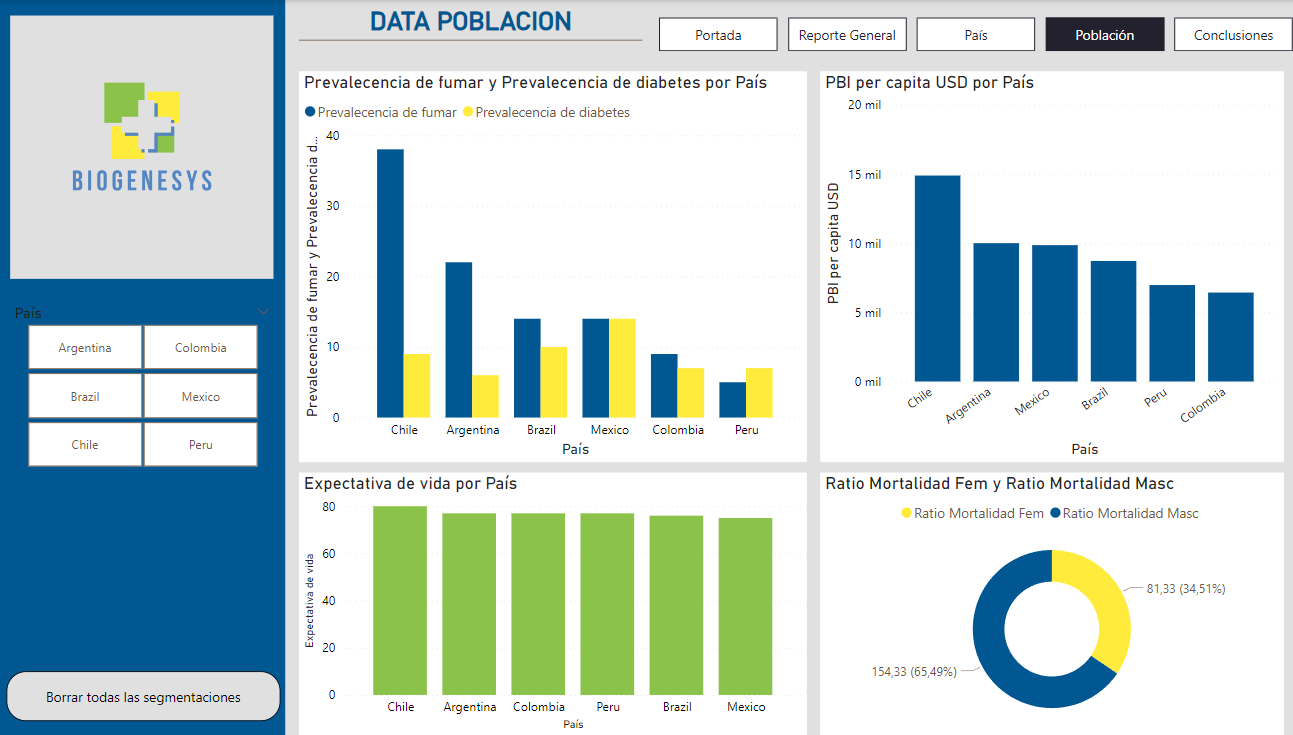

The page's visual inventory and layout, read from the dashboard file:
{"tool":"powerbi","page":{"name":"Población","canvas":[1280,720],"ordinal":3},"visuals":[{"type":"textbox","box":[9.8,0,280,720.2],"z":0},{"type":"image","box":[15.5,0,267.6,287.3],"z":1000},{"type":"textbox","title":"DATA POBLACION","box":[303.3,6.1,336.3,63.6],"z":2000},{"type":"pageNavigator","box":[655.1,17.1,624.9,33],"z":3000},{"type":"actionButton","box":[17.1,656.7,267.8,48.9],"z":4000},{"type":"clusteredColumnChart","fields":{"Y":["Avg(Datos_Finales_Filtrados (2).smoking_prevalence)","Avg(Datos_Finales_Filtrados (2).diabetes_prevalence)"],"Category":["Datos_Finales_Filtrados (2).country_name"]},"box":[303.6,69.7,496.9,382.5],"z":5000},{"type":"clusteredColumnChart","fields":{"Y":["Avg(Datos_Finales_Filtrados (2).life_expectancy)"],"Category":["Datos_Finales_Filtrados (2).country_name"]},"box":[303.6,462.7,496.9,257.6],"z":7000},{"type":"donutChart","fields":{"Y":["Avg(Datos_Finales_Filtrados (2).adult_female_mortality_rate)","Avg(Datos_Finales_Filtrados (2).adult_male_mortality_rate)"]},"box":[813.6,462.7,453.5,257.6],"z":8000},{"type":"slicer","fields":{"Values":["Datos_Finales_Filtrados (2).country_name"]},"box":[11.8,291.8,274.7,170.9],"z":9000},{"type":"clusteredColumnChart","fields":{"Category":["Datos_Finales_Filtrados (2).country_name"],"Y":["Avg(Datos_Finales_Filtrados (2).gdp_per_capita_usd)"]},"box":[813.6,69.7,453.5,382.5],"z":9001}]}

Visuals, with their boxes in screenshot pixels (x1, y1, x2, y2), scaled from the page's 1280x720 canvas onto the 1293x735 screenshot:
textbox: Rect(10, 0, 293, 734)
image: Rect(16, 0, 286, 293)
"DATA POBLACION" textbox: Rect(306, 6, 646, 71)
pageNavigator: Rect(662, 17, 1292, 51)
actionButton: Rect(17, 670, 288, 720)
clusteredColumnChart - Avg(Datos_Finales_Filtrados (2).smoking_prevalence) x Avg(Datos_Finales_Filtrados (2).diabetes_prevalence): Rect(307, 71, 809, 462)
clusteredColumnChart - Avg(Datos_Finales_Filtrados (2).life_expectancy) x Datos_Finales_Filtrados (2).country_name: Rect(307, 472, 809, 734)
donutChart - Avg(Datos_Finales_Filtrados (2).adult_female_mortality_rate) x Avg(Datos_Finales_Filtrados (2).adult_male_mortality_rate): Rect(822, 472, 1280, 734)
slicer - Datos_Finales_Filtrados (2).country_name: Rect(12, 298, 289, 472)
clusteredColumnChart - Datos_Finales_Filtrados (2).country_name x Avg(Datos_Finales_Filtrados (2).gdp_per_capita_usd): Rect(822, 71, 1280, 462)
